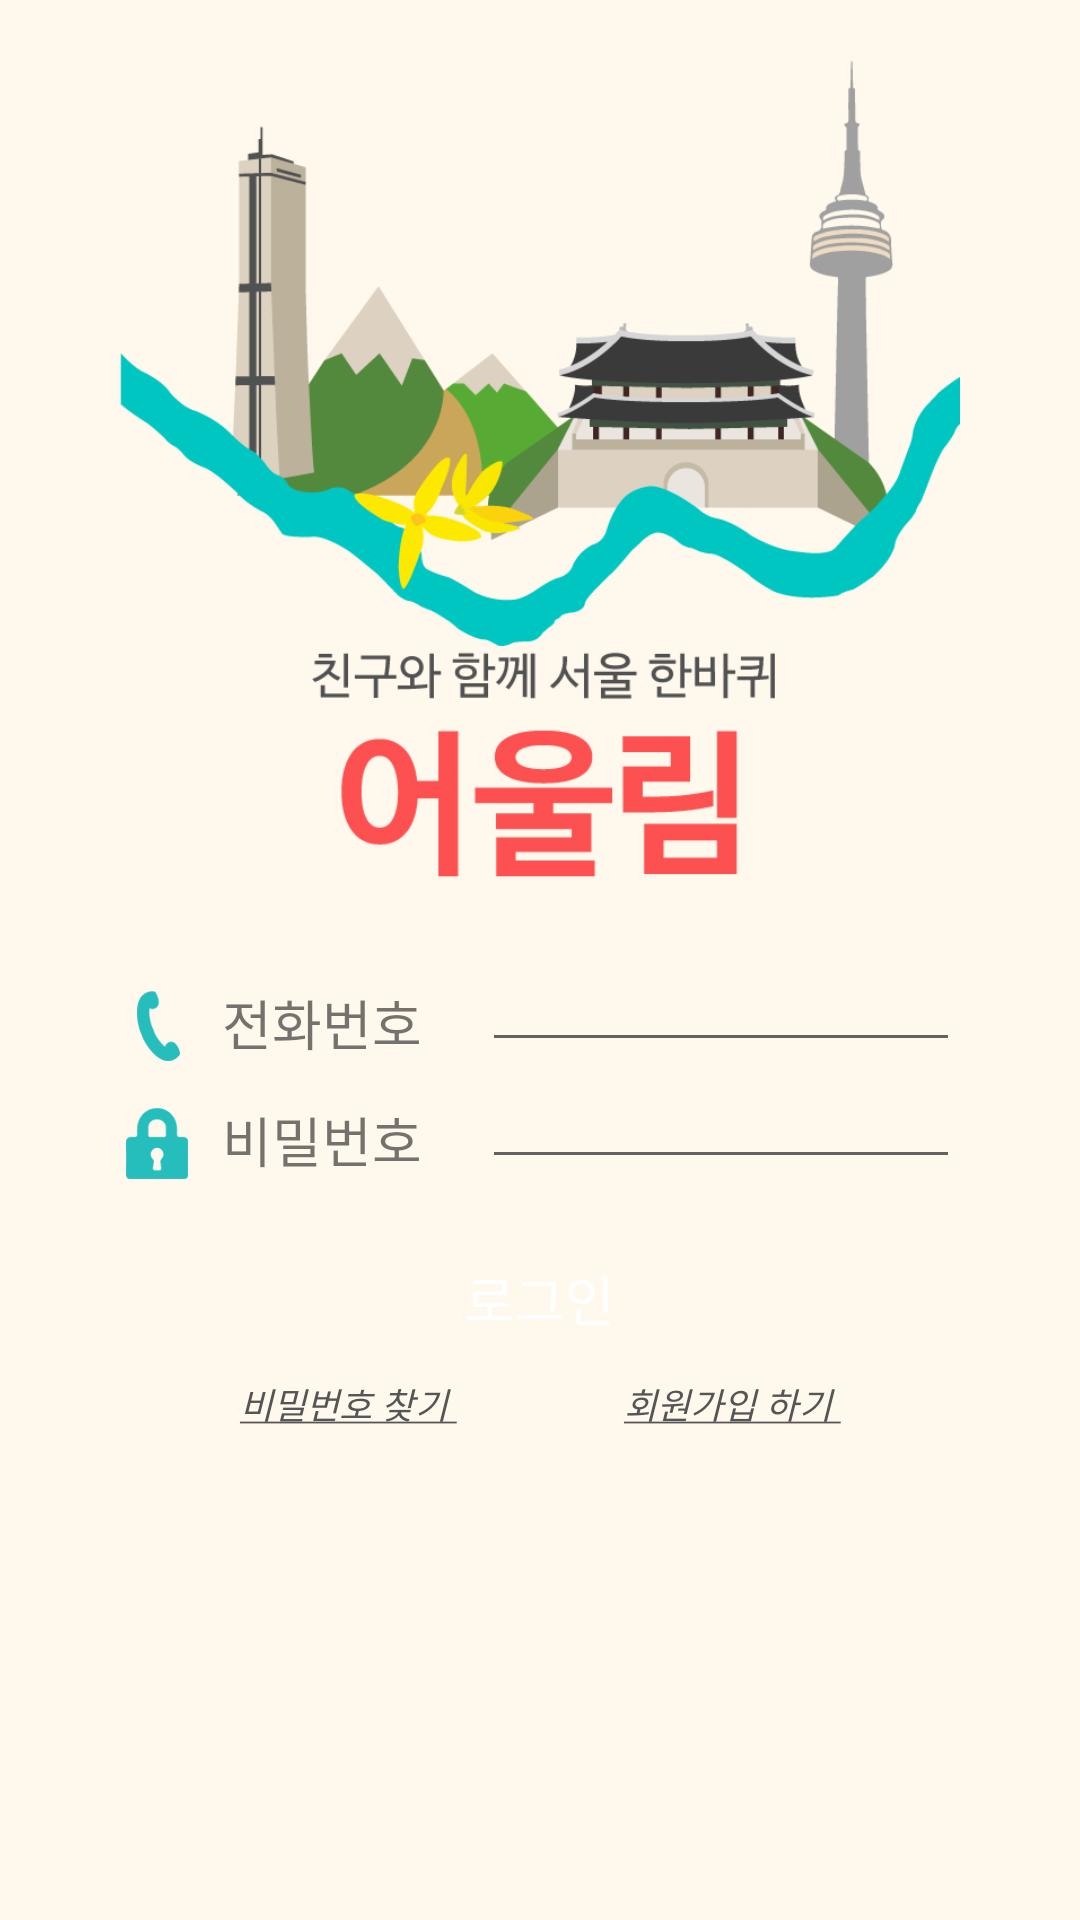

Point at icon controls on the screen. Image size 1080px×1920px, points as [x,y].
join phone: [158,1026]
join pw: [157,1143]
